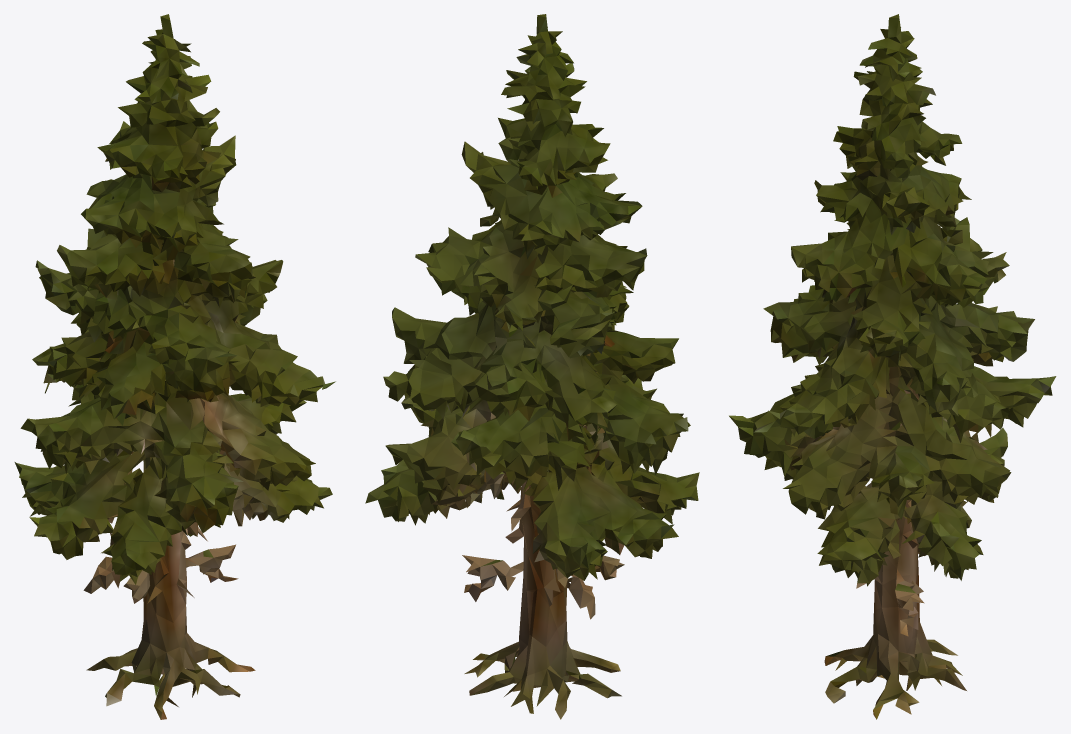
Rendered from pine-tree.web.glb.
The picture shows the model from 3 angles, left to right: view 1: azimuth 30°, elevation 25°; view 2: azimuth 150°, elevation 25°; view 3: azimuth 270°, elevation 25°; orthographic projection.
Visible parts, largest first — view 1: painted; view 2: painted; view 3: painted.
Boxes of the visible parts, x1,y1,x2,y2 form: painted: (14, 14, 335, 719); painted: (365, 14, 699, 719); painted: (729, 14, 1056, 719).
Bounding box in the file's own units: 0.8729 × 1.98 × 0.8815.
Materials: 1 (1 with a texture image).
